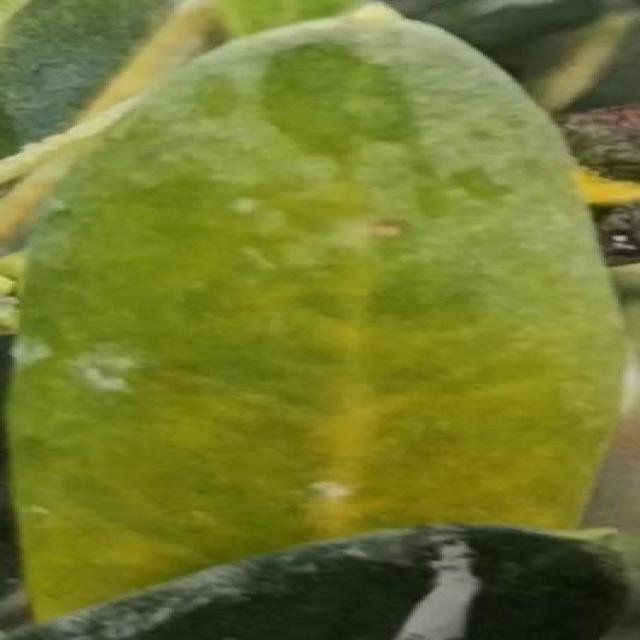Peacock Eye: (7, 0, 618, 622)
